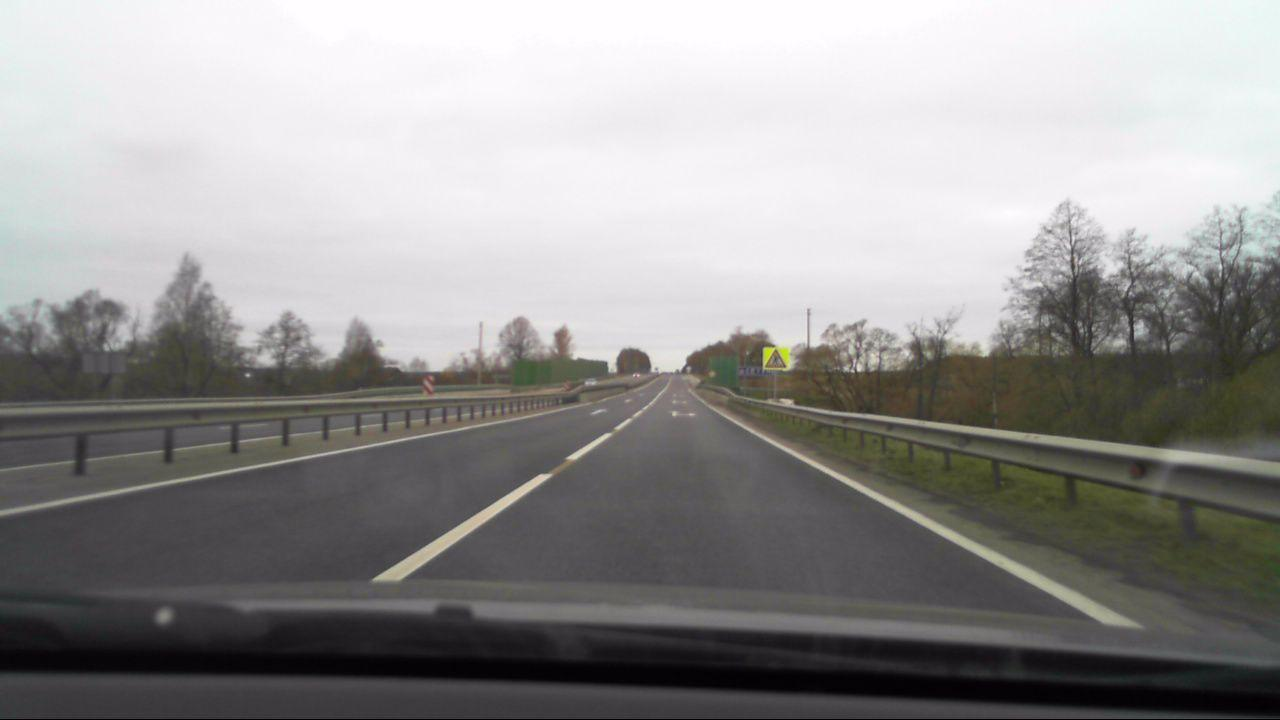1_22: (762, 348, 788, 371)
8_22_1: (422, 375, 435, 396)
